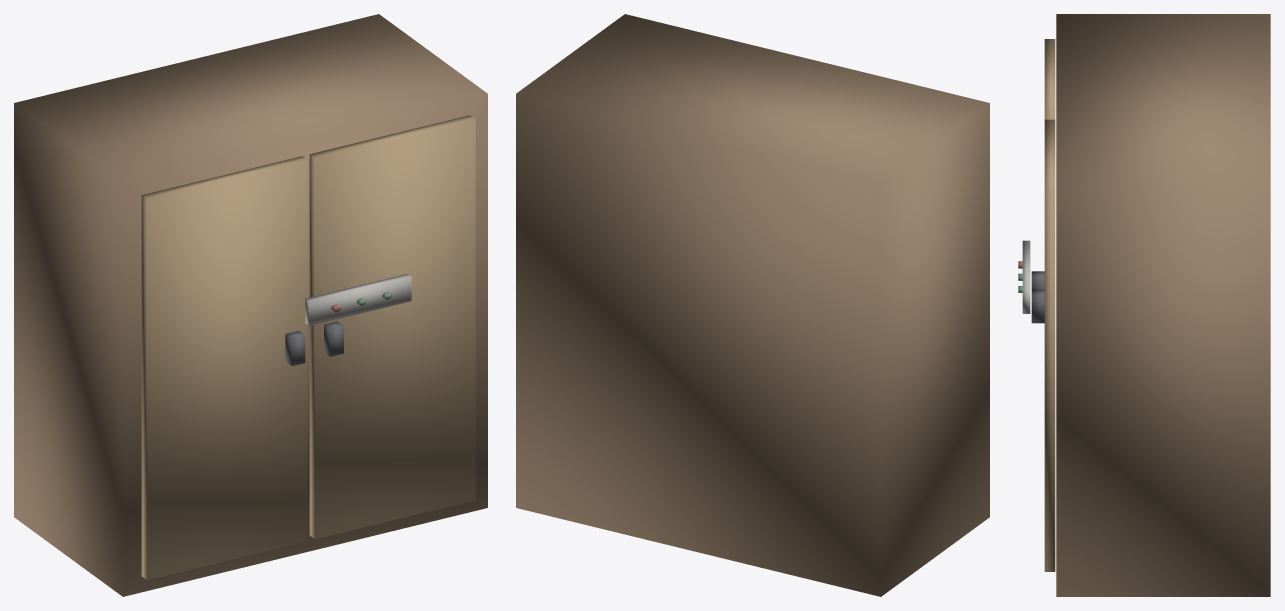
Rendered from kitchen_wall_cabinet__squat.glb.
3 renders of one model, left to right at view 1: azimuth 30°, elevation 25°; view 2: azimuth 150°, elevation 25°; view 3: azimuth 270°, elevation 25°, orthographic.
Parts seen in each view (by area): view 1: world; view 2: world; view 3: world.
Boxes of the visible parts, box(x1,y1,x2,y2) form: world: box(14, 14, 487, 596); world: box(516, 14, 989, 596); world: box(1018, 14, 1270, 596).
Size of the model in its own units: 1.04 by 1.13 by 0.6356.
